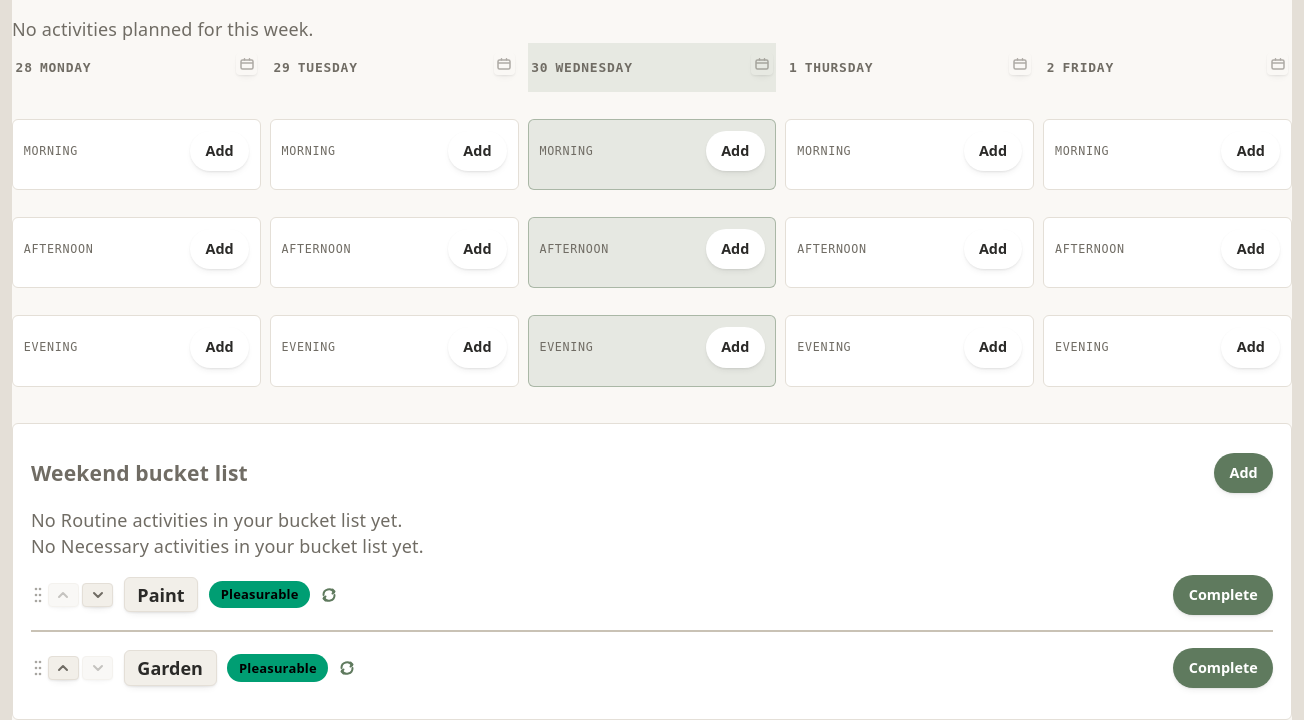
Test: WeeklyPlanner › FRONTEND-010-AC-11: reorder controls are disabled on the rendered bucket list while in flight › disables Move up/down buttons while planApi.reorderBucket is pending
(page scrolled)
Expected: the button "Paint" is shown, x1=124 y1=577 x2=198 y2=612
Step 1. Click the button named "move garden up" → (64, 668), box x1=48 y1=656 x2=79 y2=680
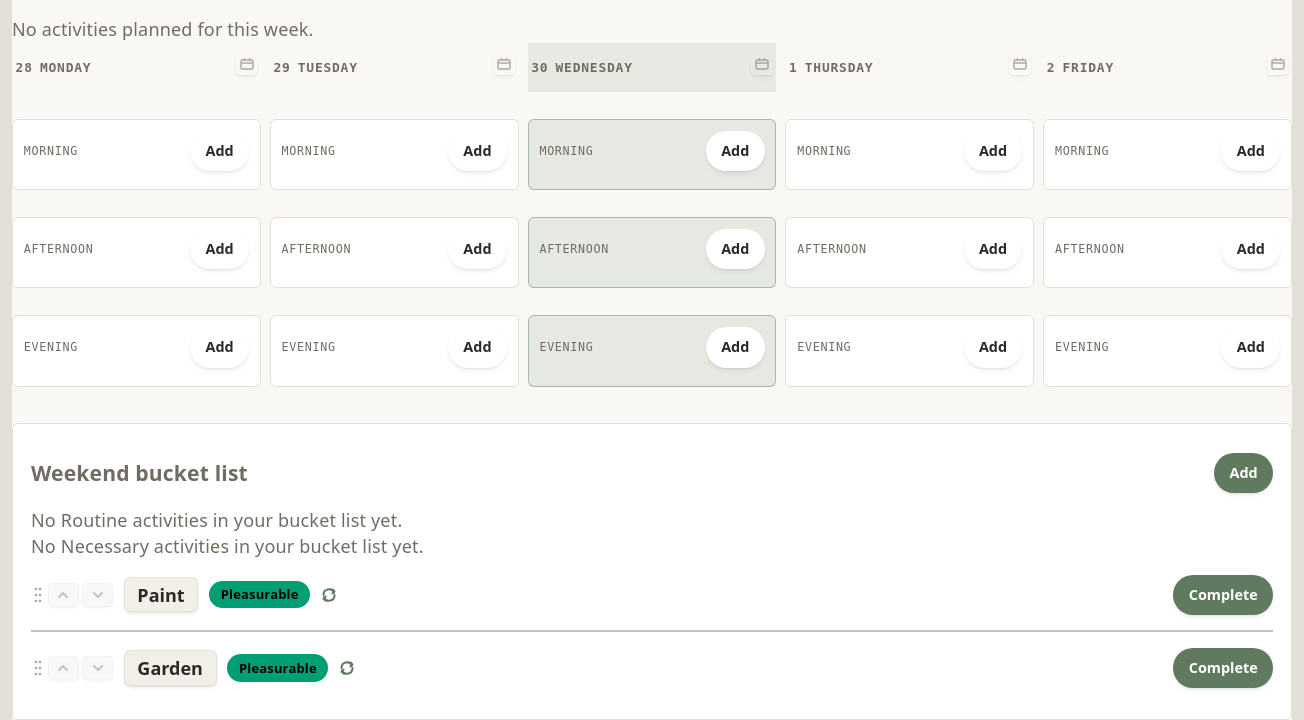
Expected: the button named "move paint down" is disabled, x1=82 y1=583 x2=113 y2=607
